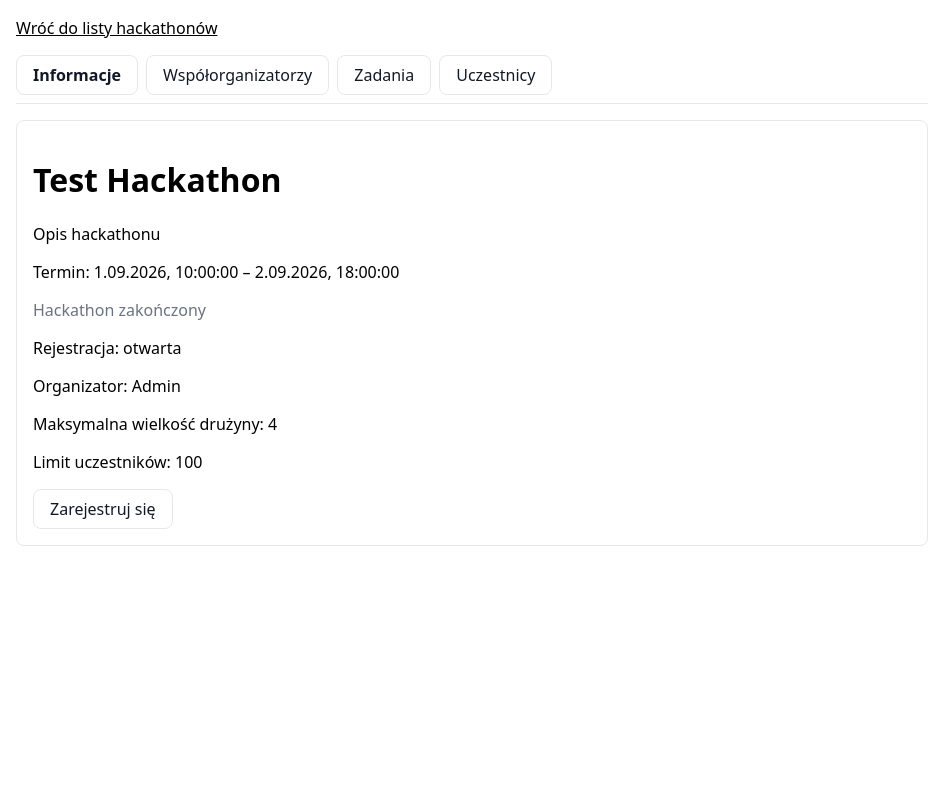
Test case: HackathonDetailsPage › allows a manager to add a task with its publication date
Click the tab "Zadania" at (384, 75), box [337,55,431,95]
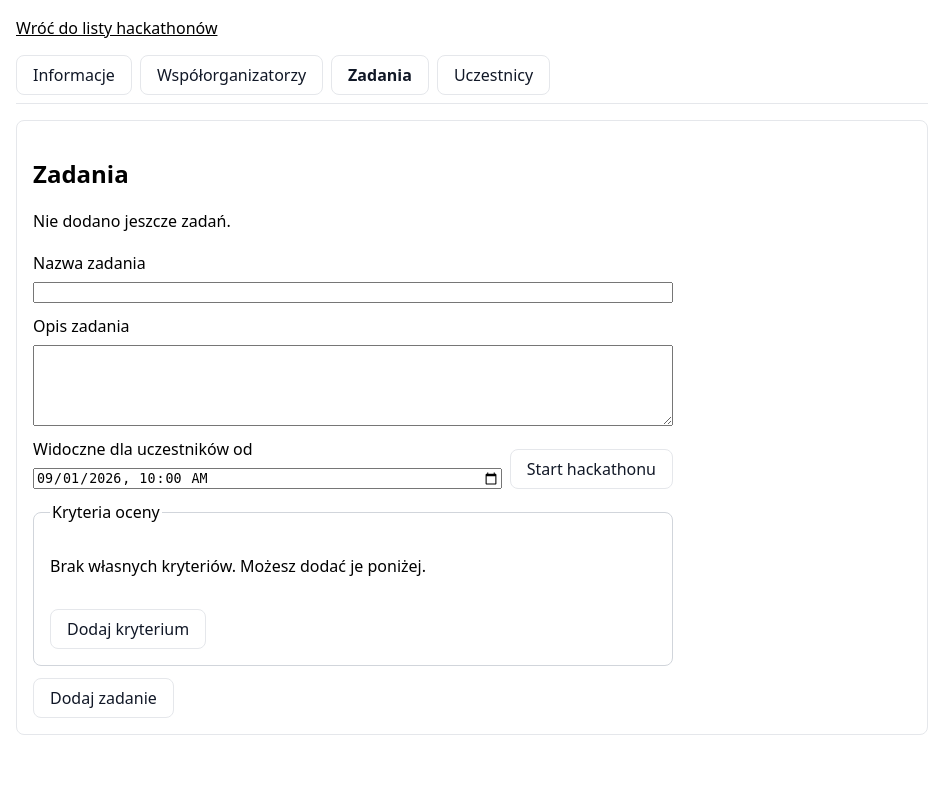
Type "Publiczne API" into the field labelled "Nazwa zadania" at (353, 292), box [33,282,673,303]
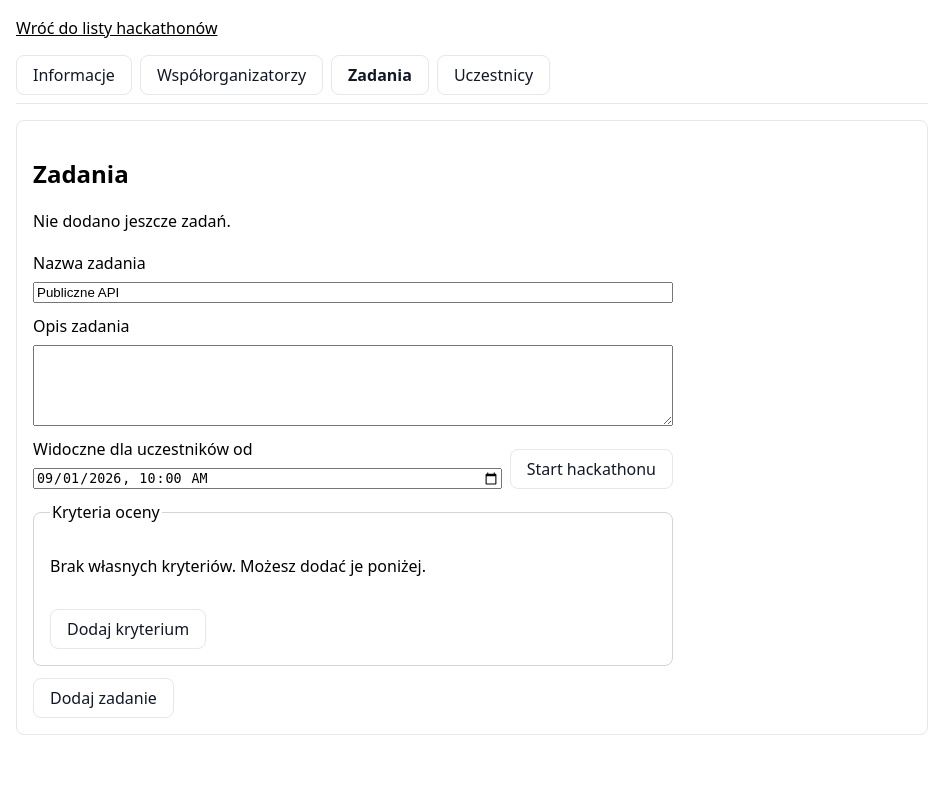
Type "Zbuduj API." into the text box labelled "Opis zadania" at (353, 385), box [33,345,673,426]
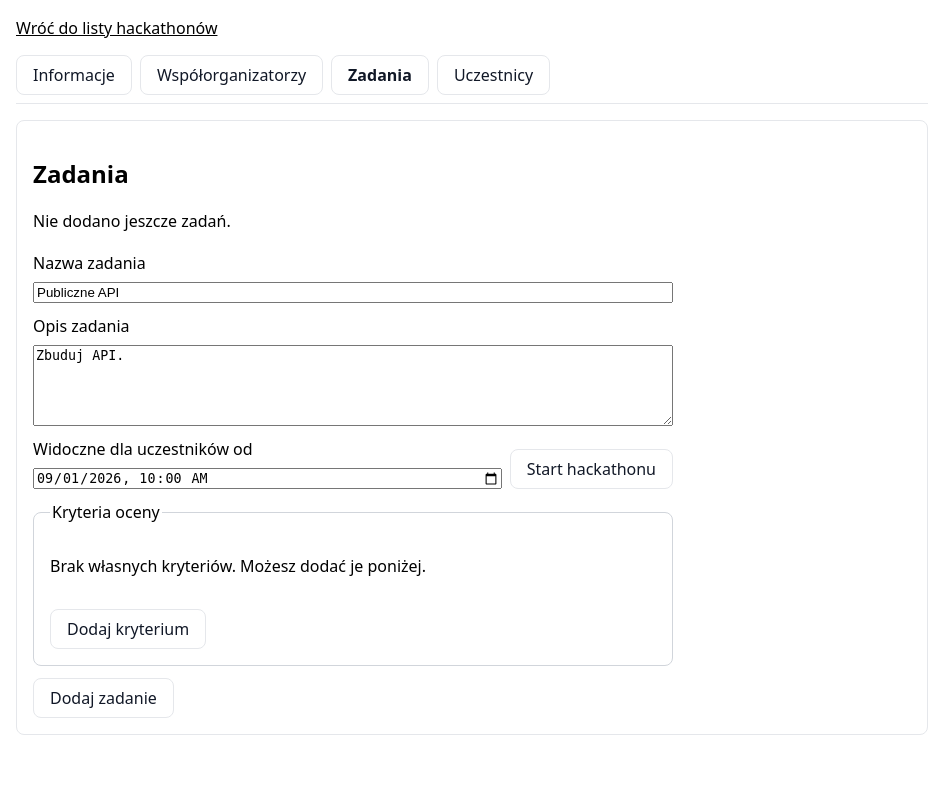
Replace the text in the field labelled "Widoczne dla uczestników od" with "2026-09-01T14:00" at (267, 478), box [33,468,502,489]
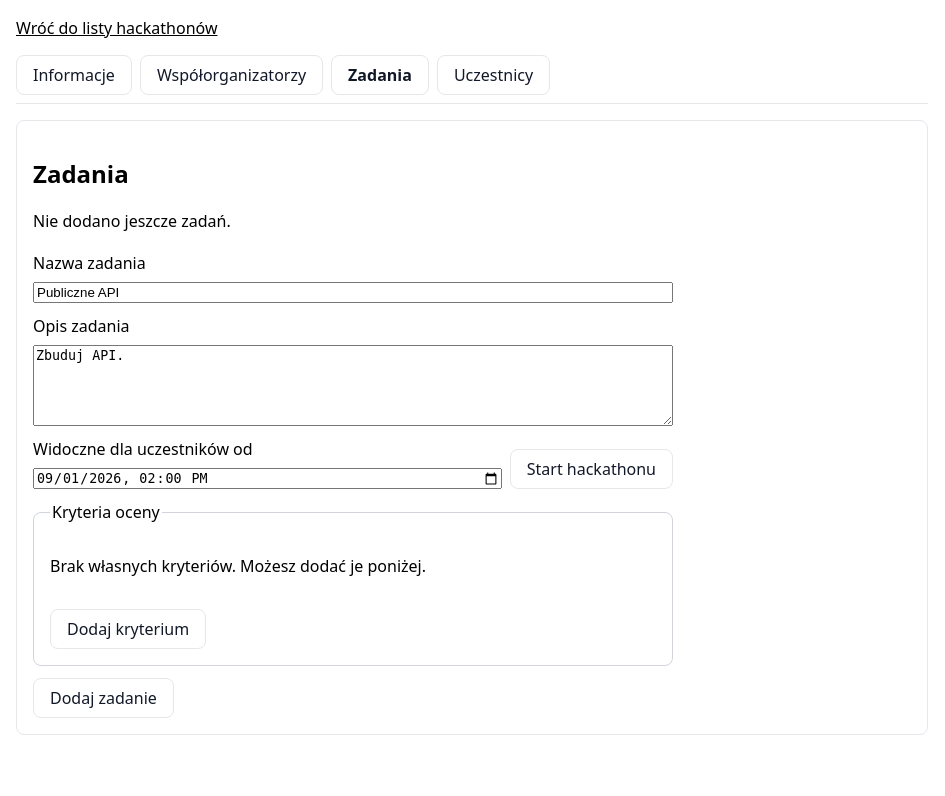
Click the button "Dodaj zadanie" at (103, 698), box [33,678,174,718]
(page scrolled)
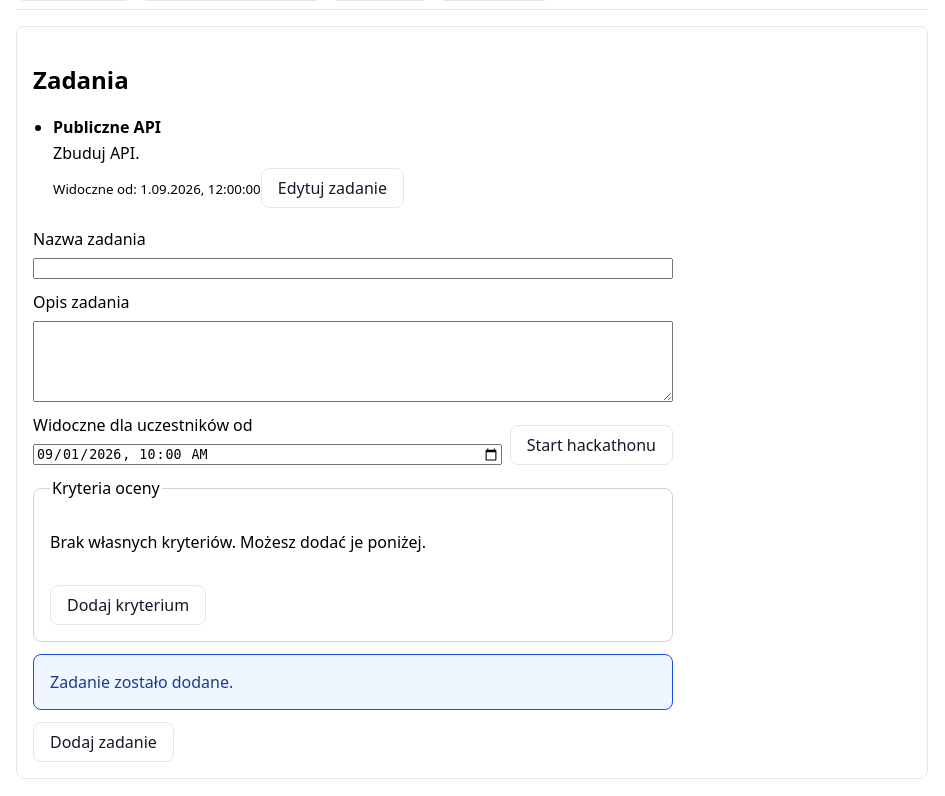
Expected: the text "Publiczne API" is shown, [53,116,161,138]
Expected: the text "Zadanie zostało dodane." is shown, [33,654,673,710]
